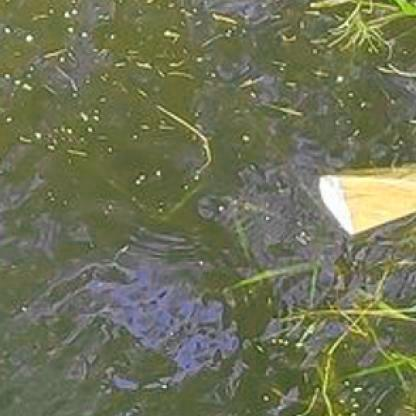Plastic: (316, 160, 416, 238)
